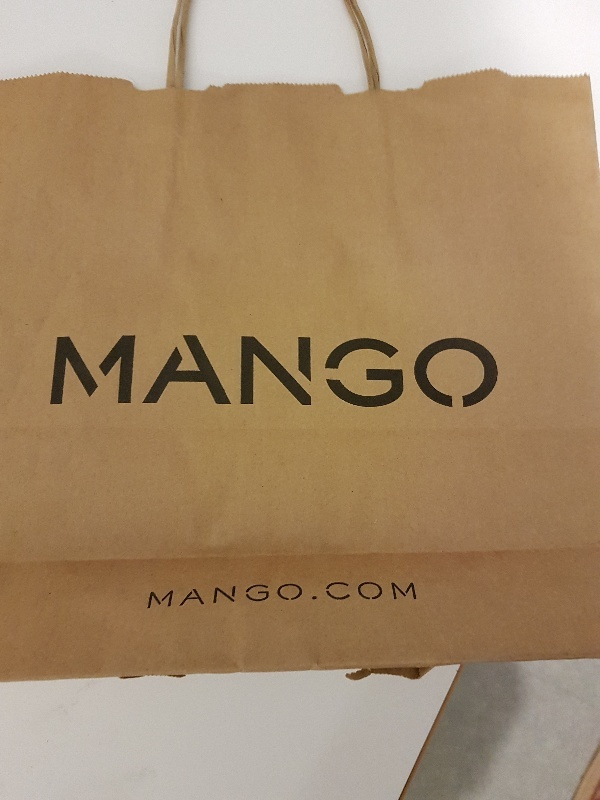text: (65, 334, 80, 408), (81, 334, 96, 408), (97, 334, 112, 408), (113, 334, 128, 408), (129, 334, 144, 408), (145, 334, 160, 408), (161, 334, 176, 408), (177, 334, 192, 408), (193, 334, 208, 408), (209, 334, 224, 408), (225, 334, 240, 408), (241, 334, 256, 408), (257, 334, 272, 408), (273, 334, 288, 408), (289, 334, 304, 408), (305, 334, 320, 408), (321, 334, 336, 408), (337, 334, 352, 408), (353, 334, 368, 408), (369, 334, 384, 408), (385, 334, 400, 408), (401, 334, 416, 408), (417, 334, 432, 408), (433, 334, 448, 408), (449, 334, 464, 408), (465, 334, 480, 408), (481, 334, 496, 408), (54, 334, 64, 408), (161, 580, 176, 610), (177, 580, 192, 610), (193, 580, 208, 610), (209, 580, 224, 610), (225, 580, 240, 610), (241, 580, 256, 610), (257, 580, 272, 610), (273, 580, 288, 610), (289, 580, 304, 610), (305, 580, 320, 610), (321, 580, 336, 610), (337, 580, 352, 610), (353, 580, 368, 610), (369, 580, 384, 610), (385, 580, 400, 610), (401, 580, 416, 610), (152, 580, 160, 610), (497, 334, 499, 408), (417, 580, 418, 610)
